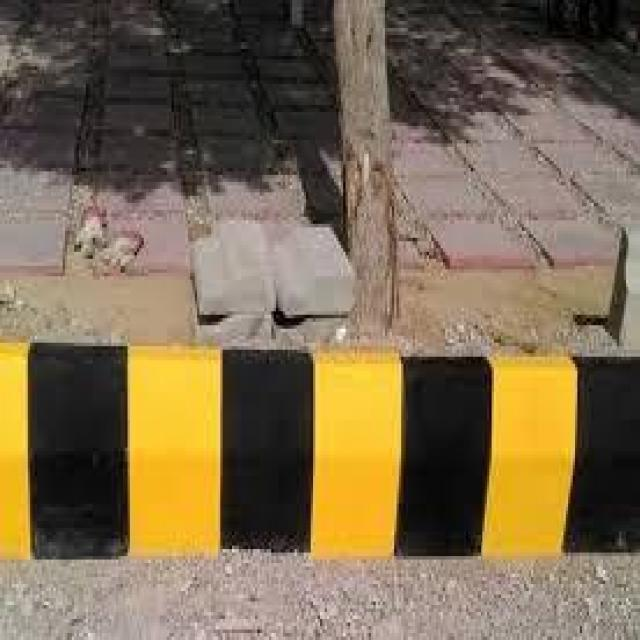bump: (0, 302, 640, 566)
